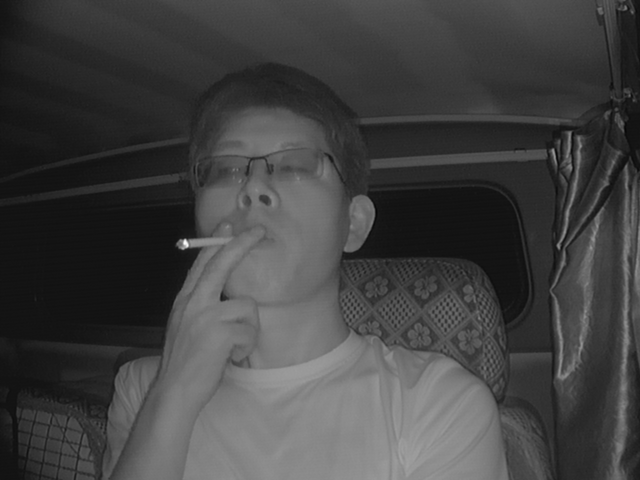hand: (177, 225, 277, 353)
